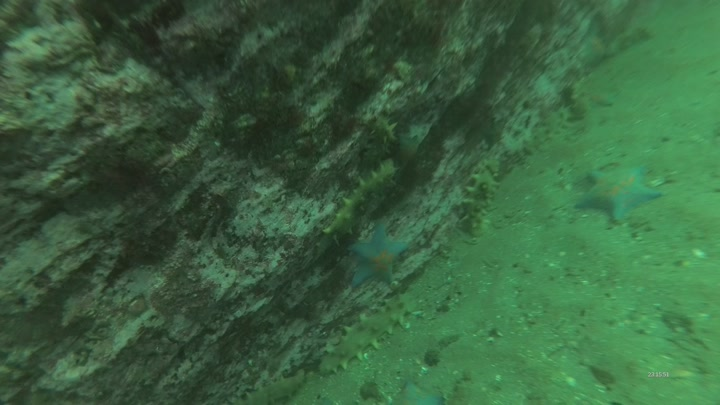holothurian: (317, 293, 418, 376), (323, 160, 401, 246), (462, 157, 501, 238), (235, 371, 305, 405), (526, 105, 574, 152), (363, 113, 400, 161)
starfish: (577, 164, 663, 225), (342, 223, 411, 287), (385, 382, 446, 405), (577, 31, 611, 66)
